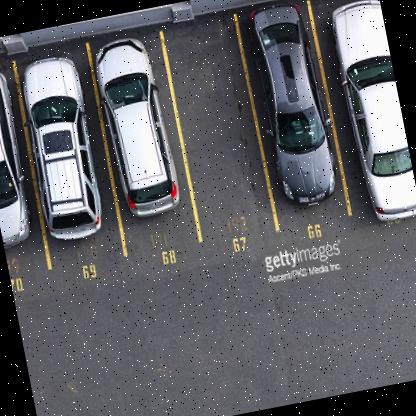Car: (314, 0, 416, 232), (242, 0, 348, 215), (86, 25, 192, 235), (17, 54, 119, 252), (0, 67, 40, 266)
Empty: (165, 19, 274, 245)
